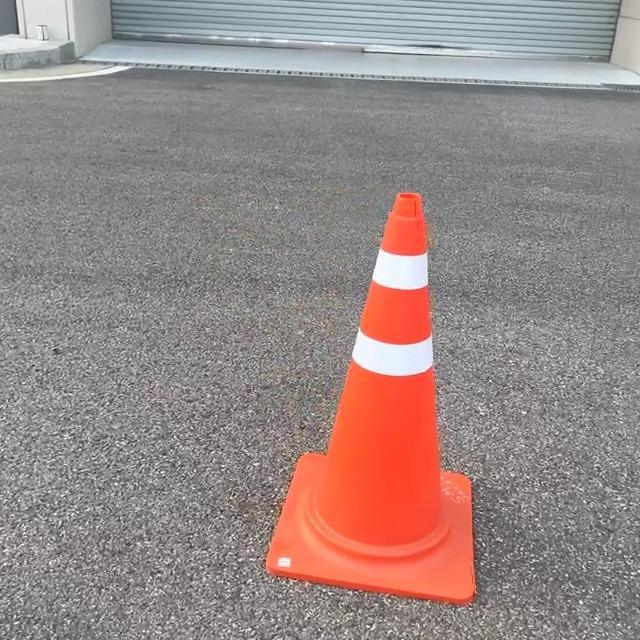fallen_object: (217, 186, 513, 616)
